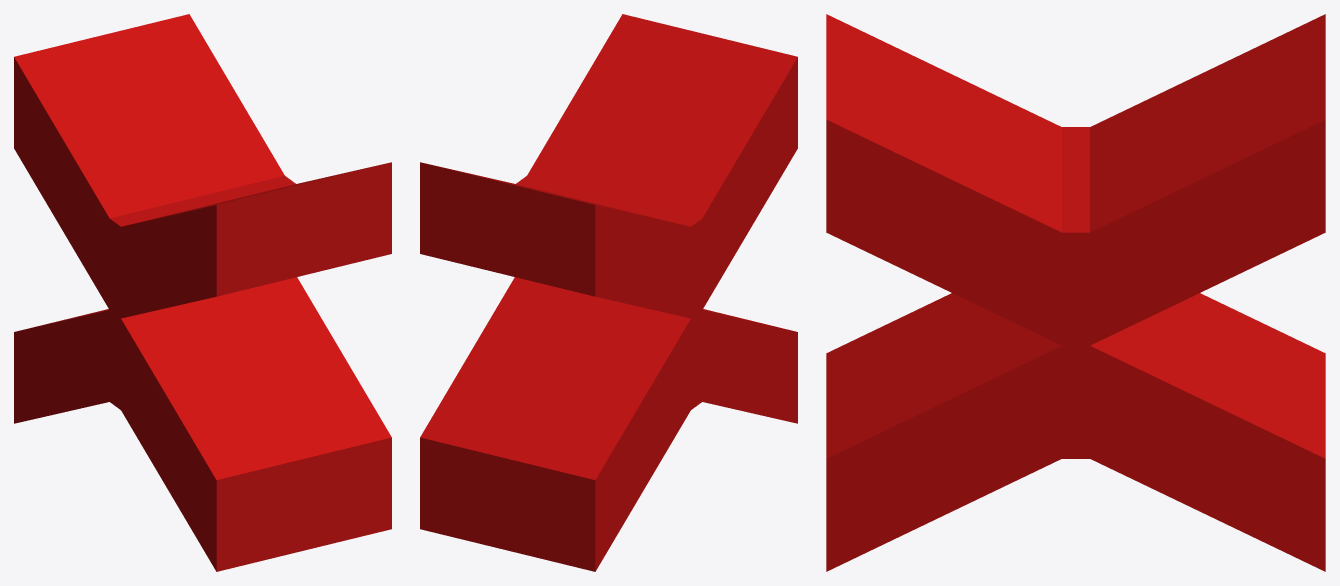
File: red_x.fbx
The picture shows the model from 3 angles, left to right: view 1: azimuth 30°, elevation 25°; view 2: azimuth 150°, elevation 25°; view 3: azimuth 270°, elevation 25°; orthographic projection. The views are drawn at different scales.
Visible parts, largest first — view 1: Cube_0; view 2: Cube_0; view 3: Cube_0.
Boxes of the visible parts, x1,y1,x2,y2 form: Cube_0: (14,14,391,571); Cube_0: (420,14,797,571); Cube_0: (826,14,1325,571).
Size of the model in its own units: 2 by 4 by 4.
